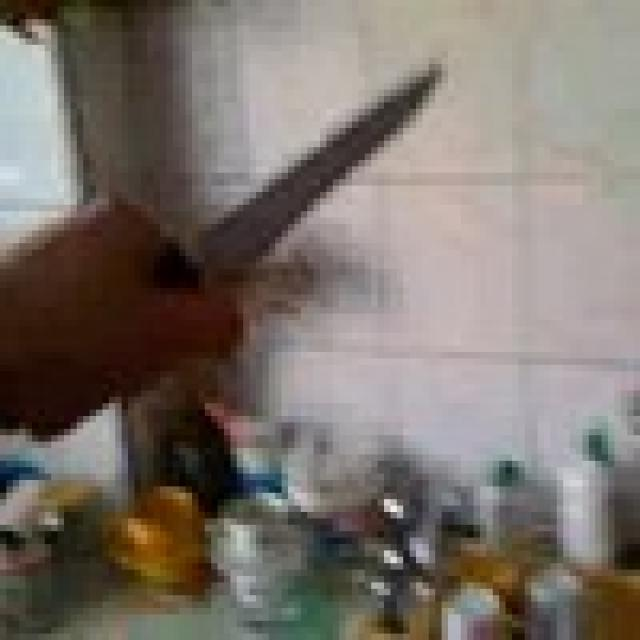Knife: (173, 57, 435, 300)
